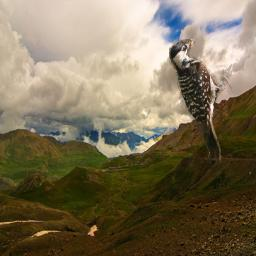Woodpecker: (169, 39, 232, 164)
